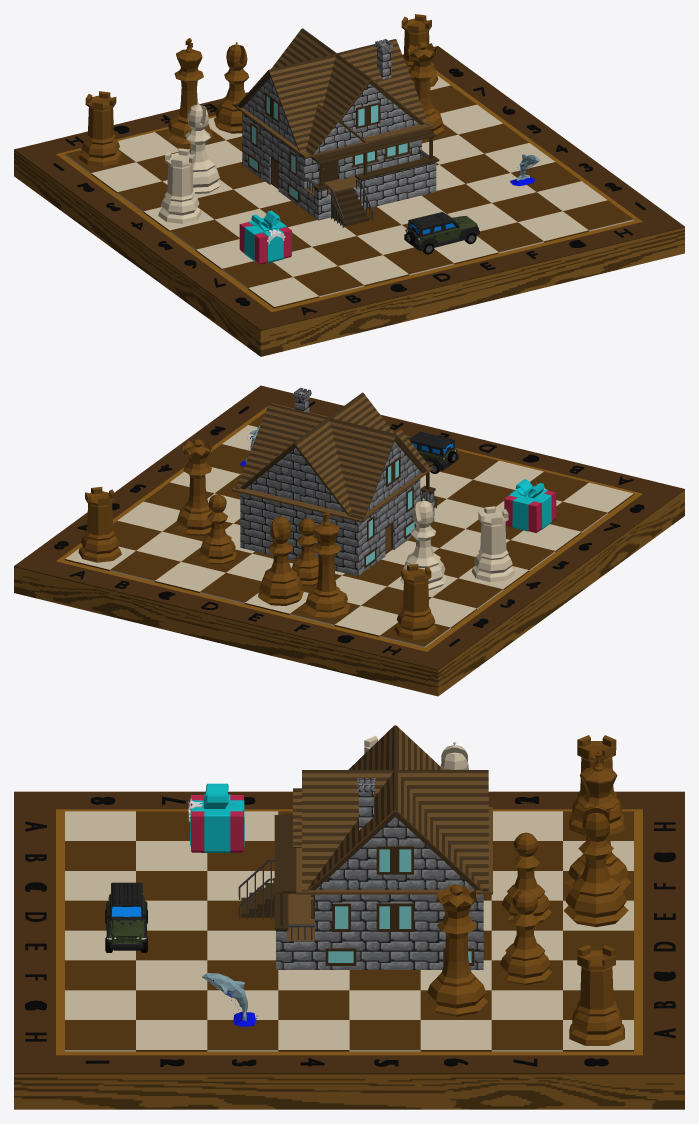
3 views of the same model, one above another, from view 1: azimuth 30°, elevation 25°; view 2: azimuth 150°, elevation 25°; view 3: azimuth 270°, elevation 25° (orthographic). The views are drawn at different scales.
Parts seen in each view (by area): view 1: Cube.002, Cube.586, OBJRANDOM_GIANT_PRESENT, VEHICLES_JEEP; view 2: Cube.002, Cube.586, OBJRANDOM_GIANT_PRESENT, VEHICLES_JEEP; view 3: Cube.002, Cube.586, OBJRANDOM_GIANT_PRESENT, VEHICLES_JEEP, ANIMAL_DELFIN.
Boxes of the visible parts, x1,y1,x2,y2 form: Cube.002: (14,14,684,356); Cube.586: (232,28,439,227); OBJRANDOM_GIANT_PRESENT: (239,210,291,264); VEHICLES_JEEP: (404,212,479,254); Cube.002: (14,385,684,696); Cube.586: (232,387,436,576); OBJRANDOM_GIANT_PRESENT: (504,479,556,532); VEHICLES_JEEP: (407,431,458,473); Cube.002: (14,735,684,1109); Cube.586: (238,725,492,969); OBJRANDOM_GIANT_PRESENT: (188,783,244,852); VEHICLES_JEEP: (105,882,147,952); ANIMAL_DELFIN: (202,973,257,1027).
Size of the model in its own units: 3981 by 1510 by 4012.
Materials: 31 (3 with a texture image).
